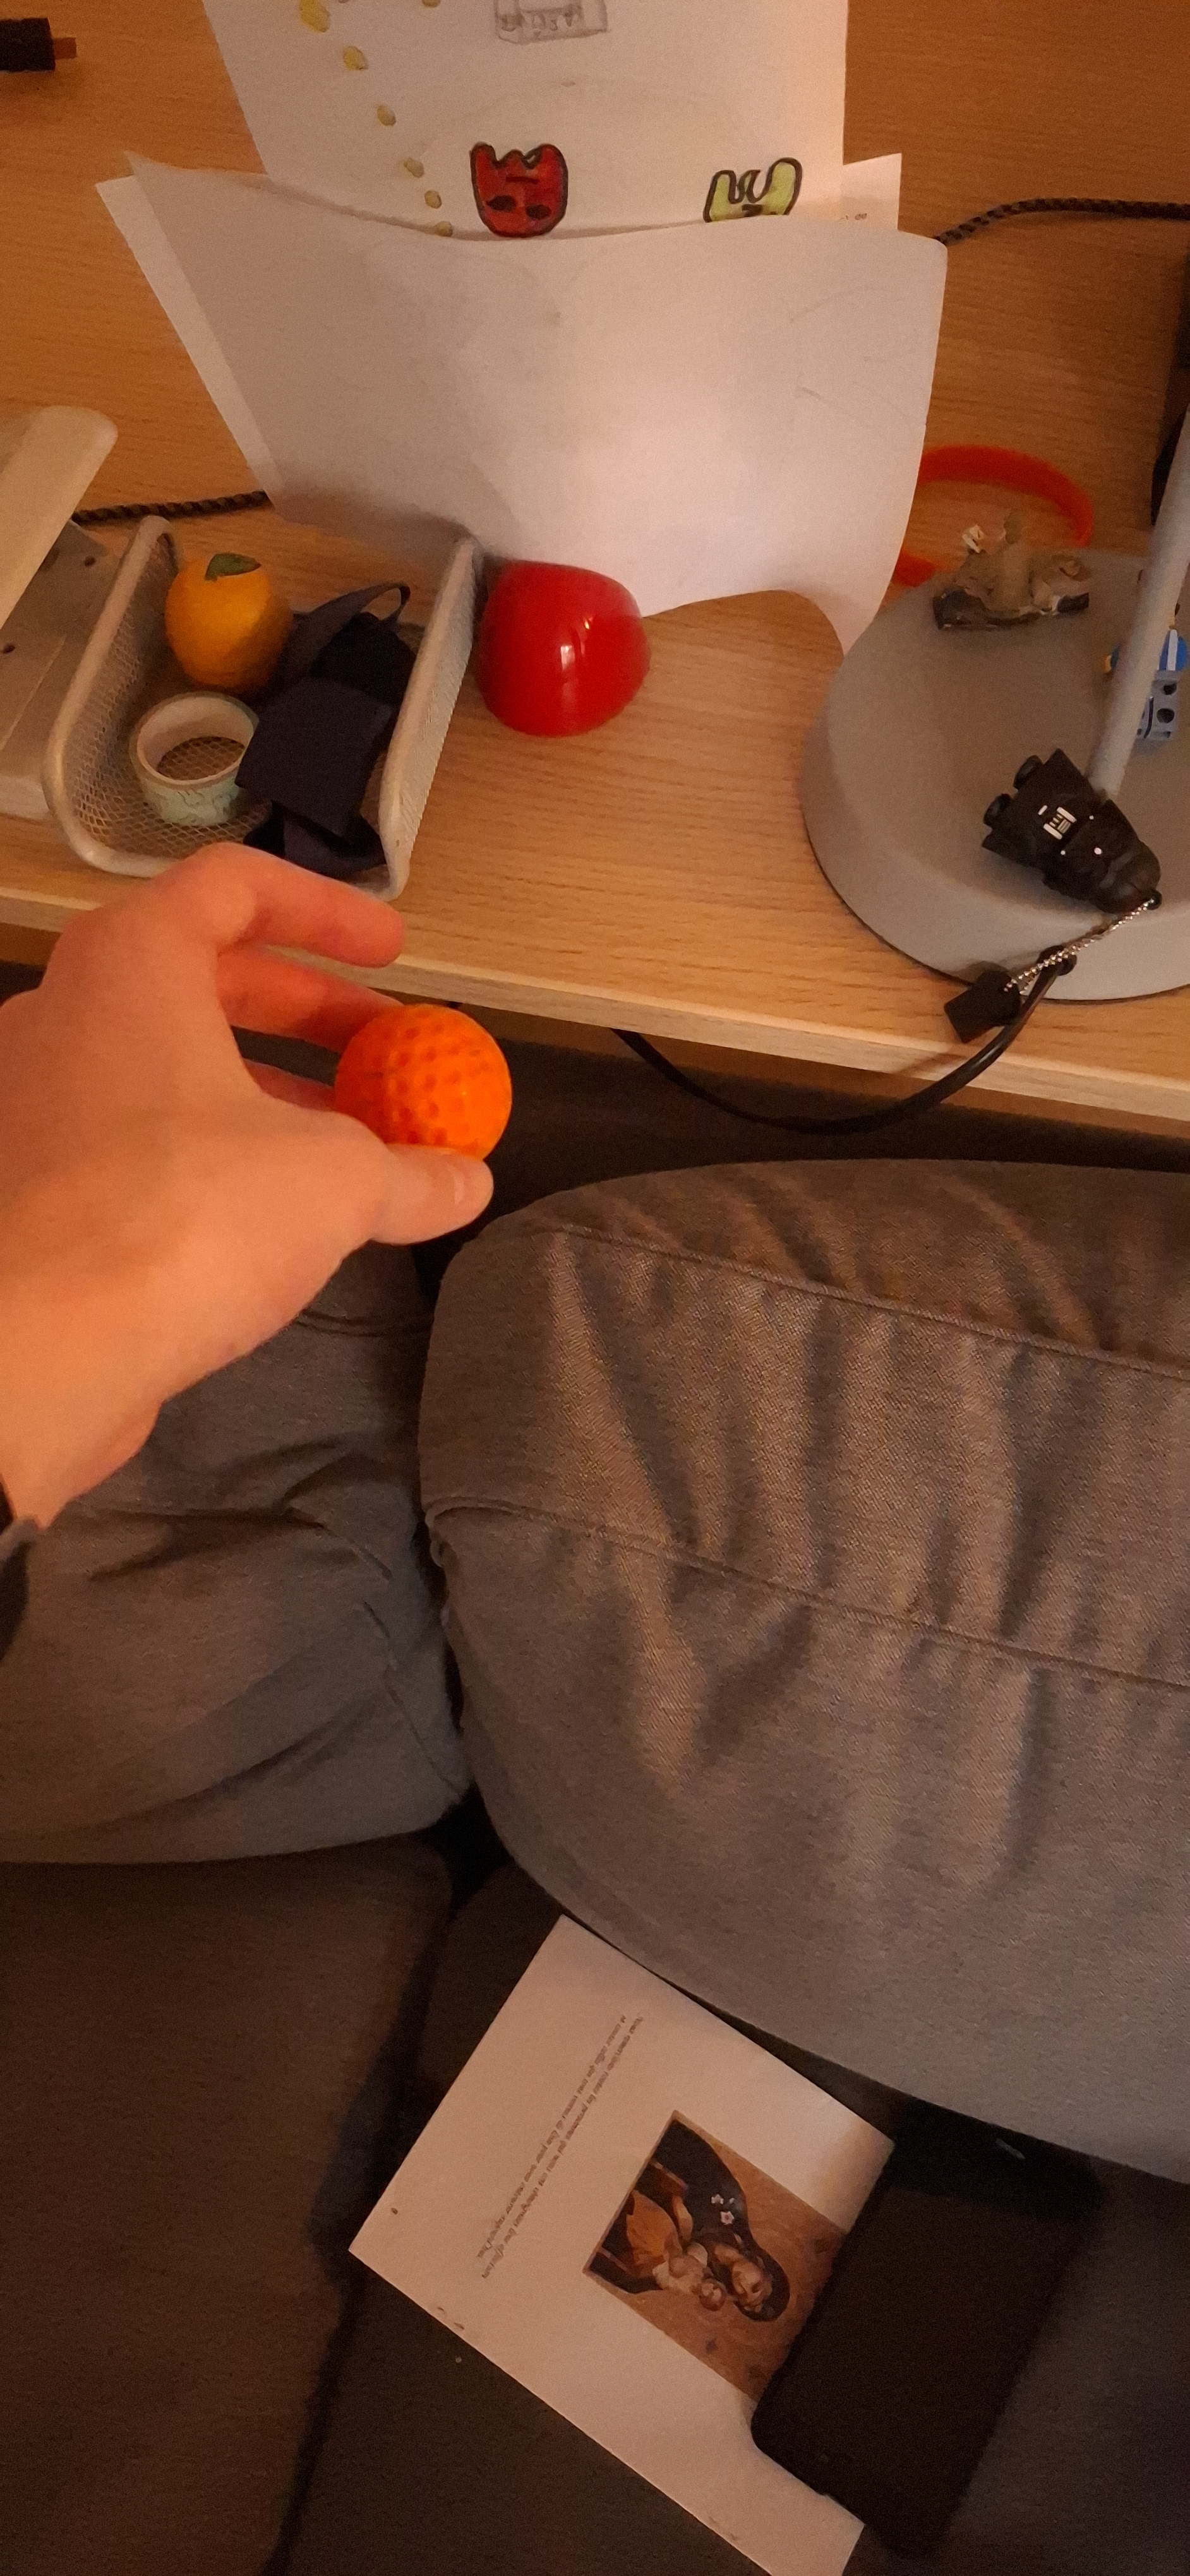ball: (462, 1470, 539, 1845)
